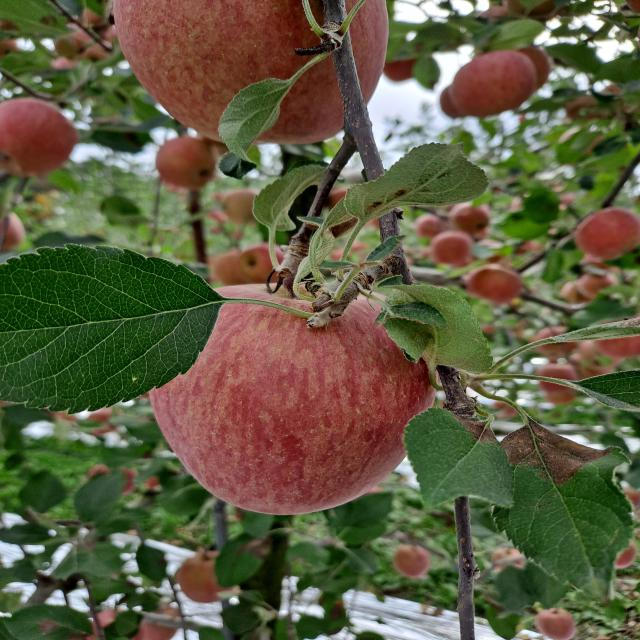fresh: (147, 278, 449, 521)
